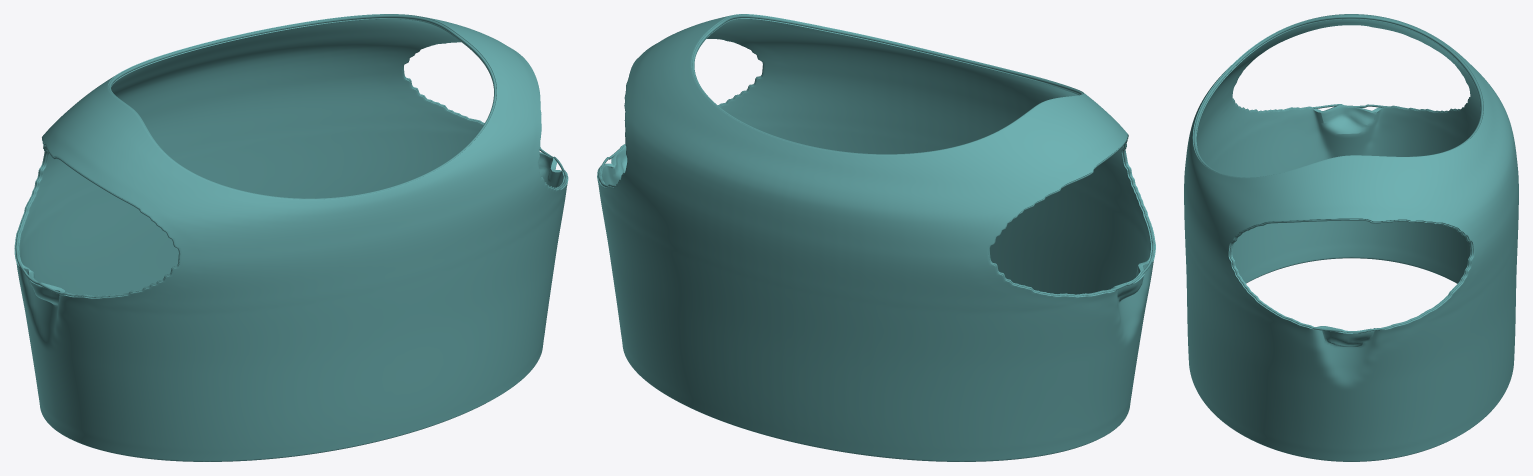
The model's file is Masculine-tank-top.glb.
3 renders of one model, left to right at view 1: azimuth 30°, elevation 25°; view 2: azimuth 150°, elevation 25°; view 3: azimuth 270°, elevation 25°, orthographic. The views are drawn at different scales.
Visible parts, largest first — view 1: Clothing / tank, Neckline / fitted crew export, Tank / seated armhole binding 2 export; view 2: Clothing / tank, Neckline / fitted crew export, Tank / seated armhole binding 2 export; view 3: Clothing / tank, Neckline / fitted crew export, Tank / seated armhole binding 1 export, Tank / seated armhole binding 2 export, Shirt / seated hem export.
Part boxes in pixels (left/top/right/bottom): Clothing / tank: left=14, top=14, right=568, bottom=461; Neckline / fitted crew export: left=108, top=14, right=496, bottom=199; Tank / seated armhole binding 2 export: left=15, top=140, right=179, bottom=297; Clothing / tank: left=597, top=14, right=1155, bottom=461; Neckline / fitted crew export: left=692, top=14, right=1083, bottom=154; Tank / seated armhole binding 2 export: left=988, top=136, right=1154, bottom=296; Clothing / tank: left=1184, top=14, right=1518, bottom=461; Neckline / fitted crew export: left=1193, top=15, right=1483, bottom=177; Tank / seated armhole binding 1 export: left=1229, top=219, right=1472, bottom=333; Tank / seated armhole binding 2 export: left=1232, top=97, right=1470, bottom=112; Shirt / seated hem export: left=1246, top=257, right=1457, bottom=461.
Size of the model in its own units: 0.7241 by 0.4084 by 0.4507.
